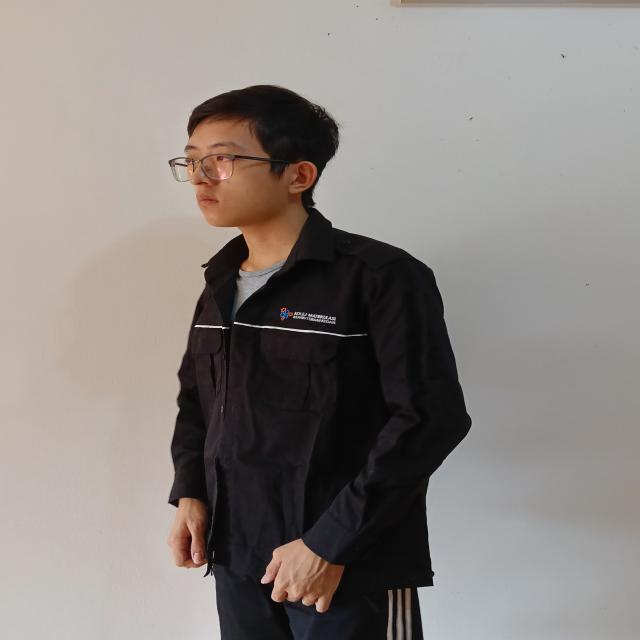person_with_labcoat: (169, 86, 470, 640)
